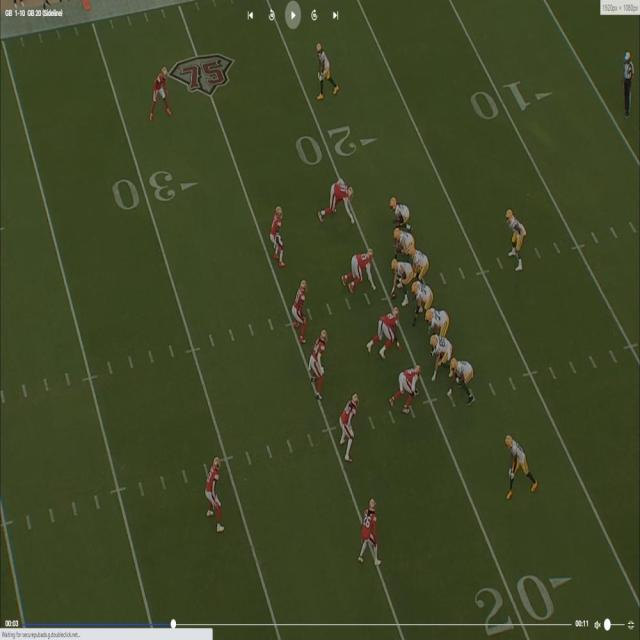center: (392, 259, 414, 297)
db: (361, 500, 379, 566), (151, 65, 172, 120), (342, 394, 358, 465), (206, 455, 222, 522)
lb: (313, 328, 330, 398), (294, 275, 310, 345), (273, 205, 285, 269)
qb: (409, 244, 427, 280)
skill: (506, 434, 528, 496), (315, 42, 333, 97), (505, 209, 522, 266), (451, 353, 469, 403), (428, 333, 451, 370)
